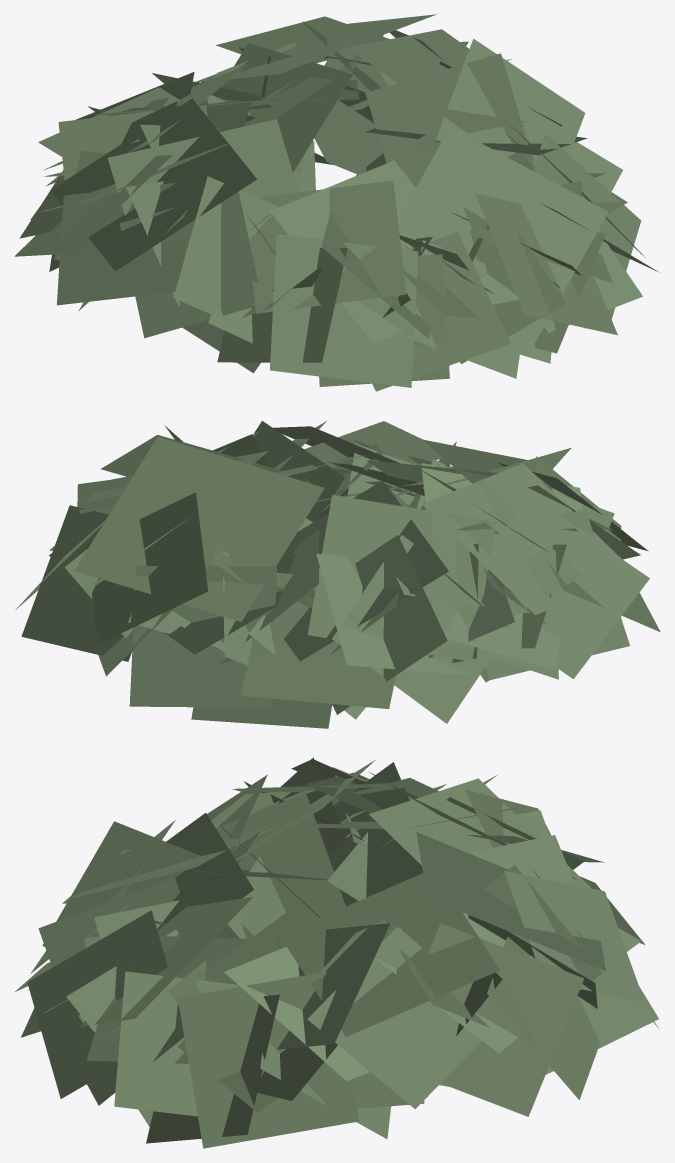
The model's file is frangipani_leaves.glb.
3 renders of one model, top to bottom at view 1: azimuth 30°, elevation 25°; view 2: azimuth 150°, elevation 25°; view 3: azimuth 270°, elevation 25°, orthographic. The views are drawn at different scales.
Visible parts, largest first — view 1: frangipani_leaves; view 2: frangipani_leaves; view 3: frangipani_leaves.
Part boxes in pixels (x1,y1,x2,y2): frangipani_leaves: (14,14,659,391); frangipani_leaves: (15,421,660,728); frangipani_leaves: (15,757,659,1148).
Size of the model in its own units: 5.62 by 2.13 by 5.38.
